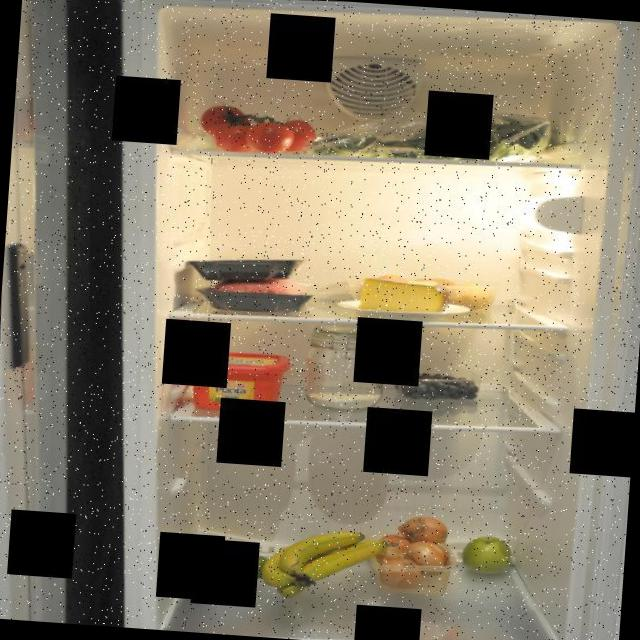Carne vacuno: (192, 272, 318, 318)
Cebolla: (361, 509, 462, 598)
Mantequilla: (177, 343, 296, 418)
Manzana: (459, 526, 522, 579)
Patata: (410, 266, 499, 317)
Plátano: (257, 522, 391, 606)
Queso: (346, 266, 458, 323)
Tomate: (187, 95, 328, 164)
blueberries: (386, 360, 486, 407)
flour: (297, 318, 391, 416)
green_beans: (300, 117, 410, 164)
spinach: (387, 100, 558, 172)
